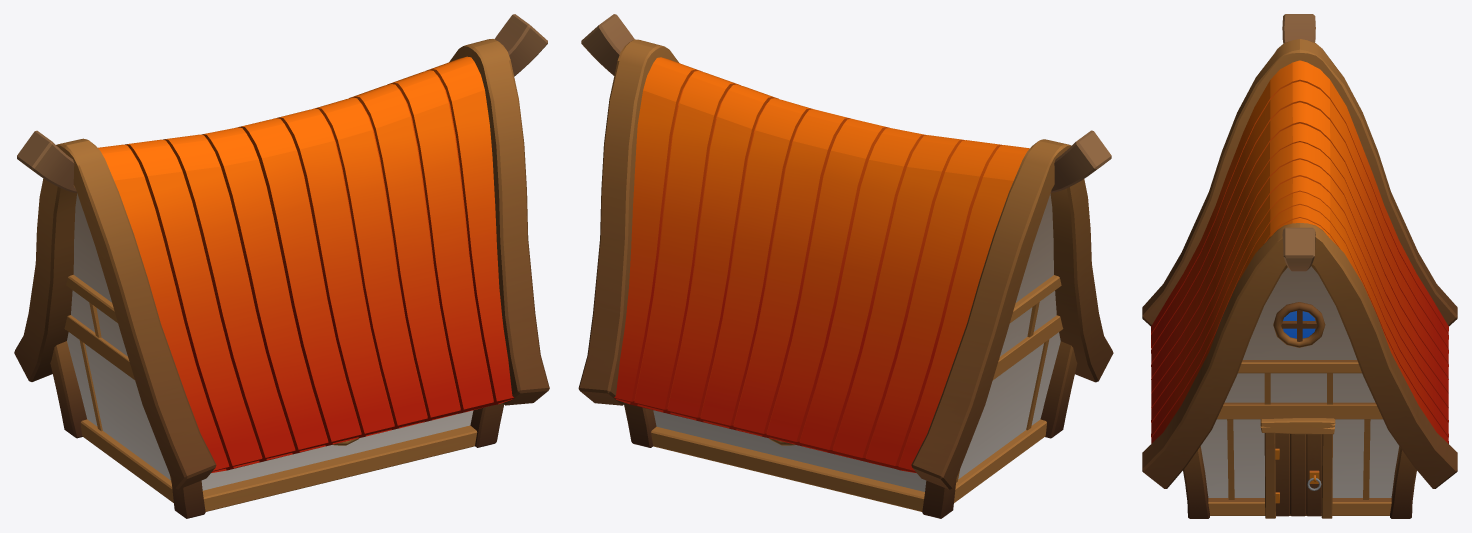
The model's file is obj_House1.fbx.
3 renders of one model, left to right at view 1: azimuth 30°, elevation 25°; view 2: azimuth 150°, elevation 25°; view 3: azimuth 270°, elevation 25°, orthographic. The views are drawn at different scales.
Visible parts, largest first — view 1: obj_House1; view 2: obj_House1; view 3: obj_House1.
Boxes of the visible parts, left/top/right/bottom form: obj_House1: left=14, top=14, right=549, bottom=518; obj_House1: left=578, top=14, right=1113, bottom=518; obj_House1: left=1142, top=14, right=1457, bottom=518.
Bounding box in the file's own units: 404 × 269 × 233.
